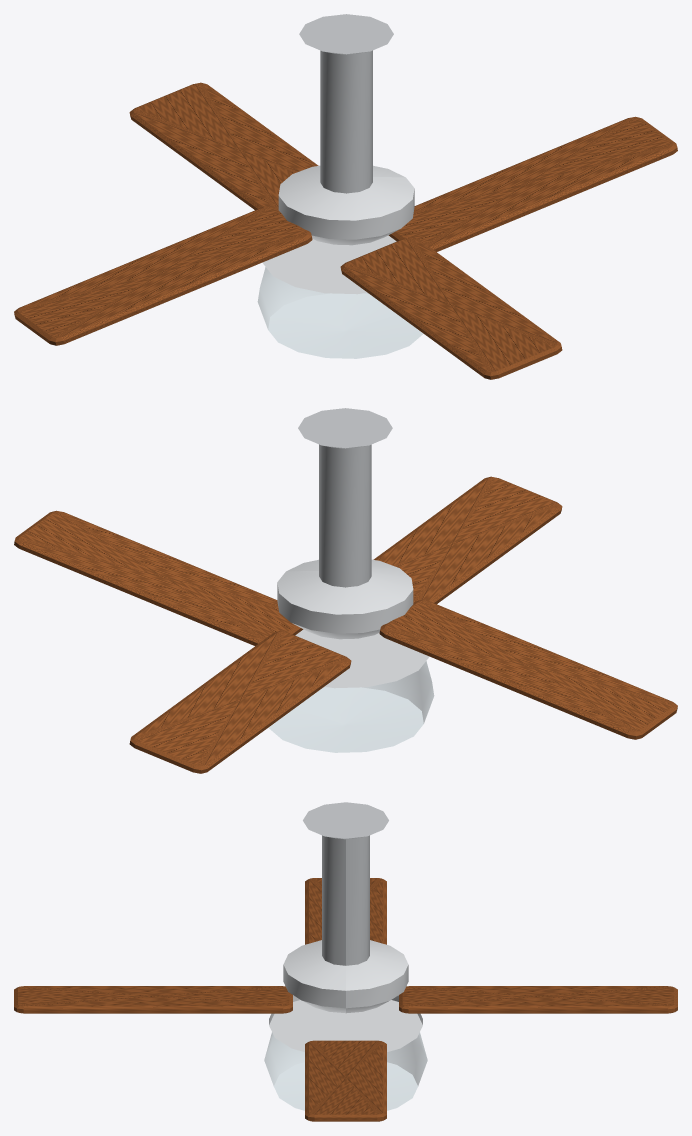
The picture shows the model from 3 angles, top to bottom: view 1: azimuth 30°, elevation 25°; view 2: azimuth 150°, elevation 25°; view 3: azimuth 270°, elevation 25°; orthographic projection. The views are drawn at different scales.
Parts seen in each view (by area): view 1: fan-blades, ceiling-fan-light; view 2: fan-blades, ceiling-fan-light; view 3: fan-blades, ceiling-fan-light.
Part boxes in pixels (left/top/right/bottom): fan-blades: left=14, top=82, right=677, bottom=379; ceiling-fan-light: left=257, top=14, right=422, bottom=358; fan-blades: left=14, top=476, right=677, bottom=773; ceiling-fan-light: left=269, top=408, right=434, bottom=752; fan-blades: left=14, top=878, right=677, bottom=1121; ceiling-fan-light: left=264, top=802, right=427, bottom=1110.
Bounding box in the file's own units: 1.37 × 0.62 × 1.38.
Materials: 4 (1 with a texture image).
